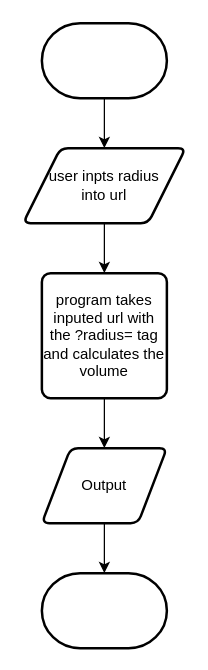
Some shapes in this 208 by 670 pixel diagram are drawn without their labels. Here are the shapes that lost their labels. From the top down, the centre of each, then its label:
At point (104, 60): "Start".
At point (104, 610): "Stop".
